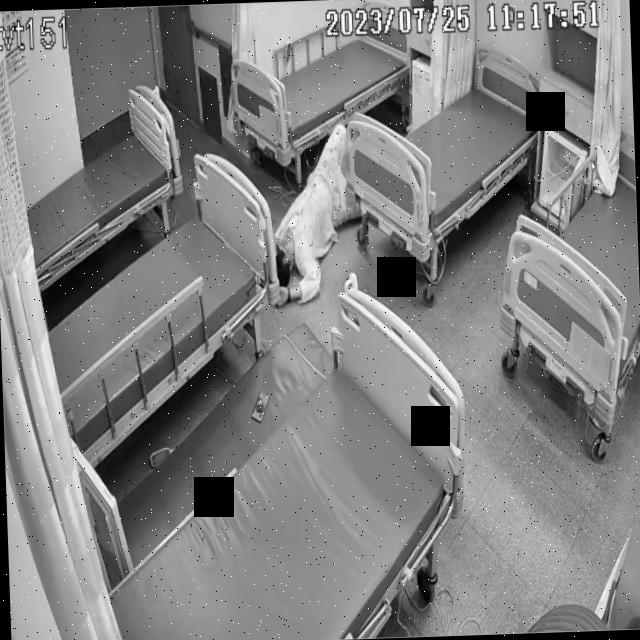bed: (97, 293, 463, 640), (36, 156, 280, 457), (497, 130, 640, 428), (339, 54, 542, 242), (20, 84, 185, 286), (234, 14, 412, 165)
fall: (268, 126, 364, 305)
patient: (267, 126, 364, 302)
